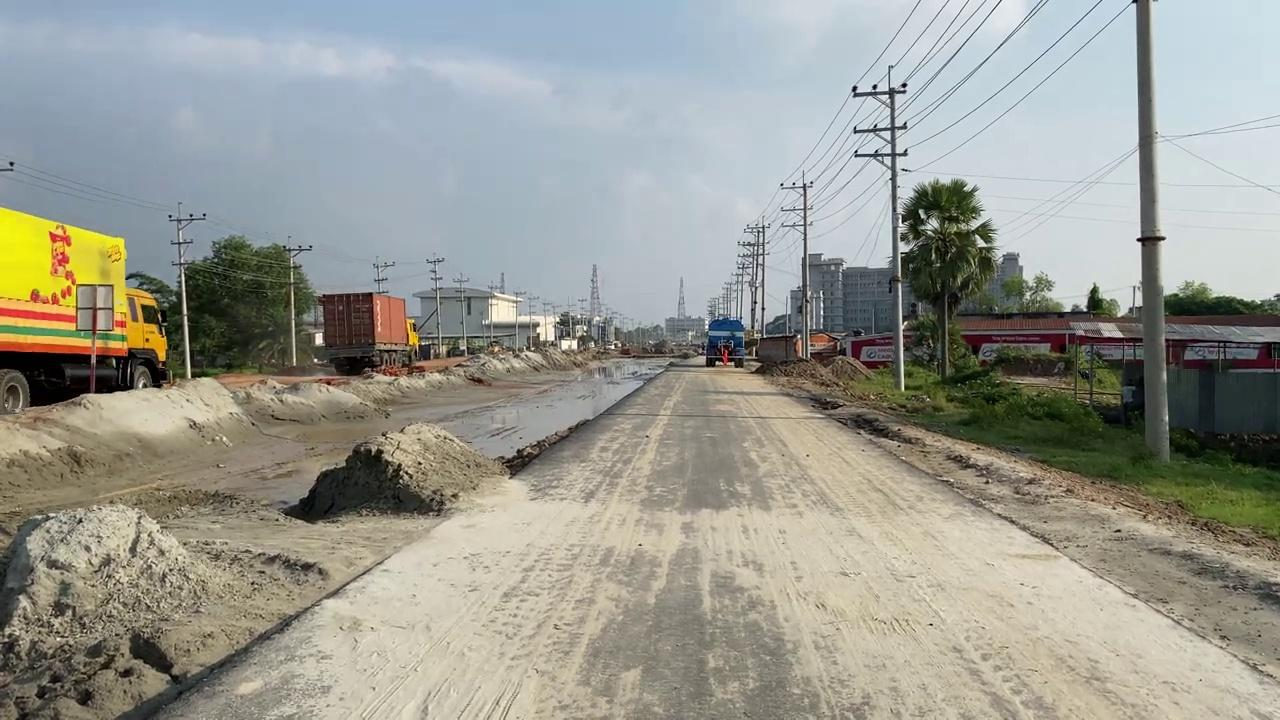Pole: (850, 64, 909, 391), (1133, 0, 1170, 463)
Sidewalk: (121, 354, 674, 717)
Traffic-sign: (892, 175, 999, 382)
Tree: (0, 205, 173, 414), (307, 290, 421, 375), (705, 315, 746, 367)
